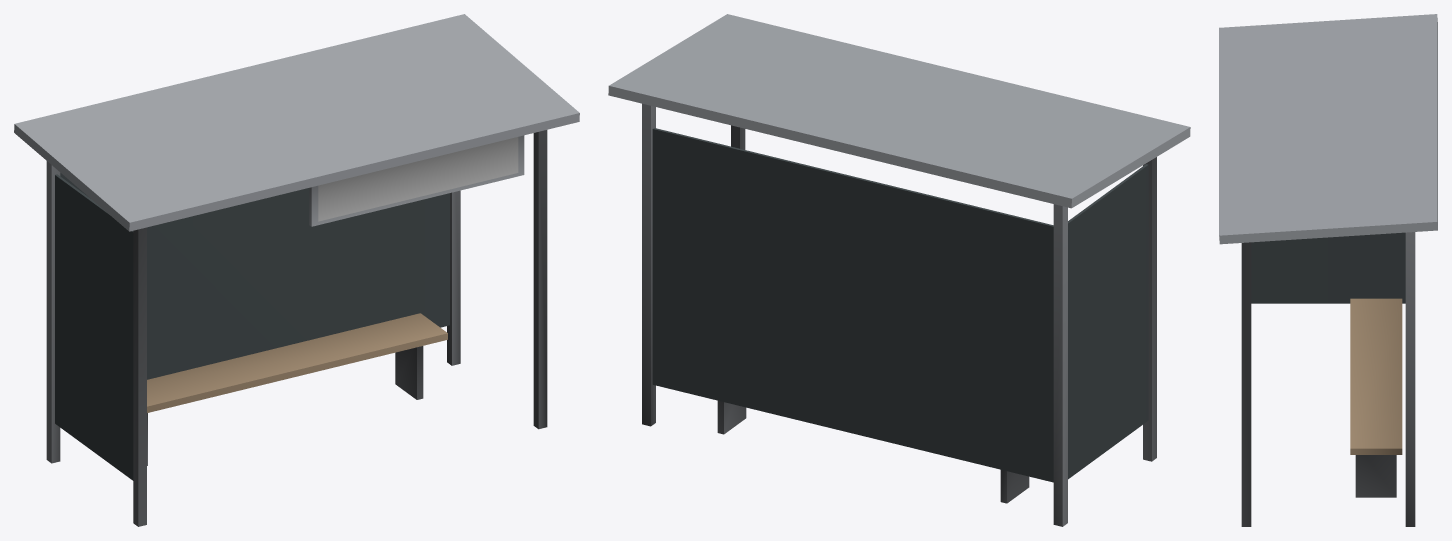
The model's file is bus_stop.glb.
3 views of the same model, side by side, from view 1: azimuth 30°, elevation 25°; view 2: azimuth 150°, elevation 25°; view 3: azimuth 270°, elevation 25° (orthographic). The views are drawn at different scales.
Parts seen in each view (by area): view 1: bus_stop; view 2: bus_stop; view 3: bus_stop.
Boxes of the visible parts, bbox=[...] form: bus_stop: bbox=[14, 14, 579, 526]; bus_stop: bbox=[608, 14, 1190, 526]; bus_stop: bbox=[1219, 14, 1437, 526].
Bounding box in the file's own units: 3.6 × 2.54 × 1.6.
